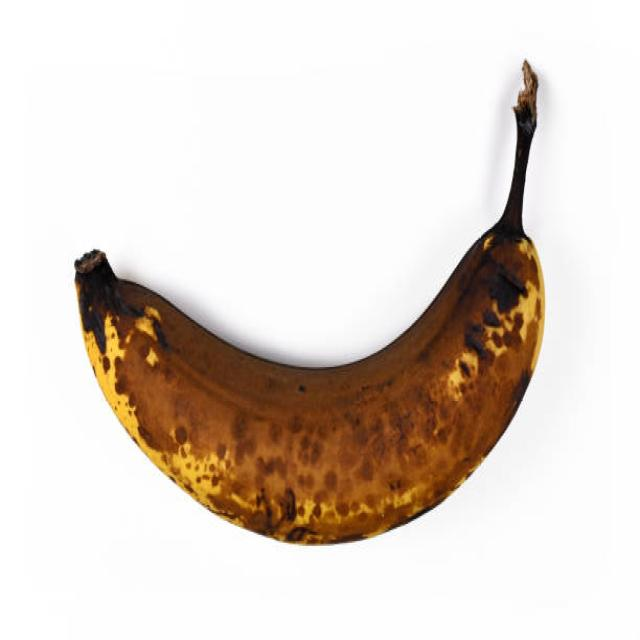overripe: (74, 120, 548, 549)
